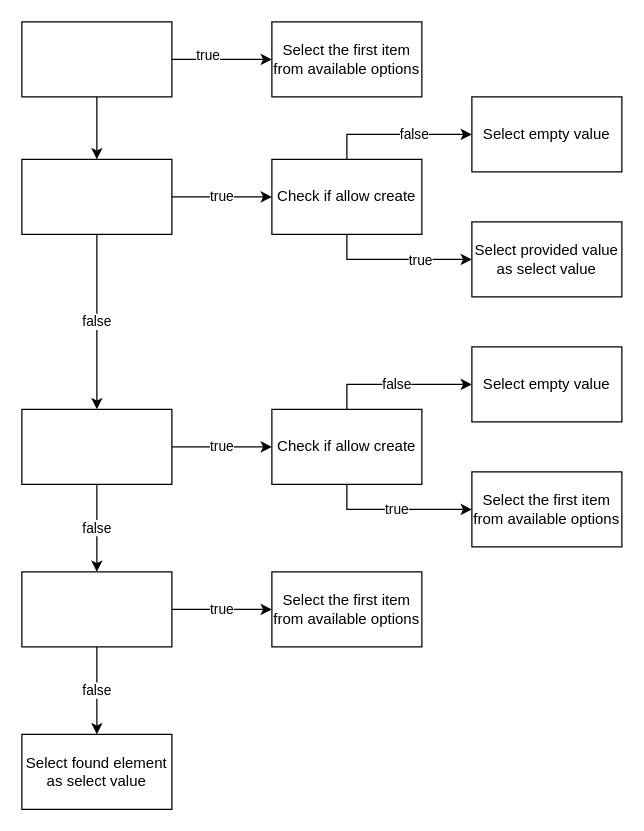
Some shapes in this 644 by 831 pixel diagram are drawn without their labels. The centre of each missing label's shape, as x and y in pixels:
"Check if available options list is empty" belongs at (96,196).
"Check if found element is disabled" belongs at (96,609).
"Check if provided value doesn't exist in available options list" belongs at (96,446).
"Check if value is empty" belongs at (96,59).
